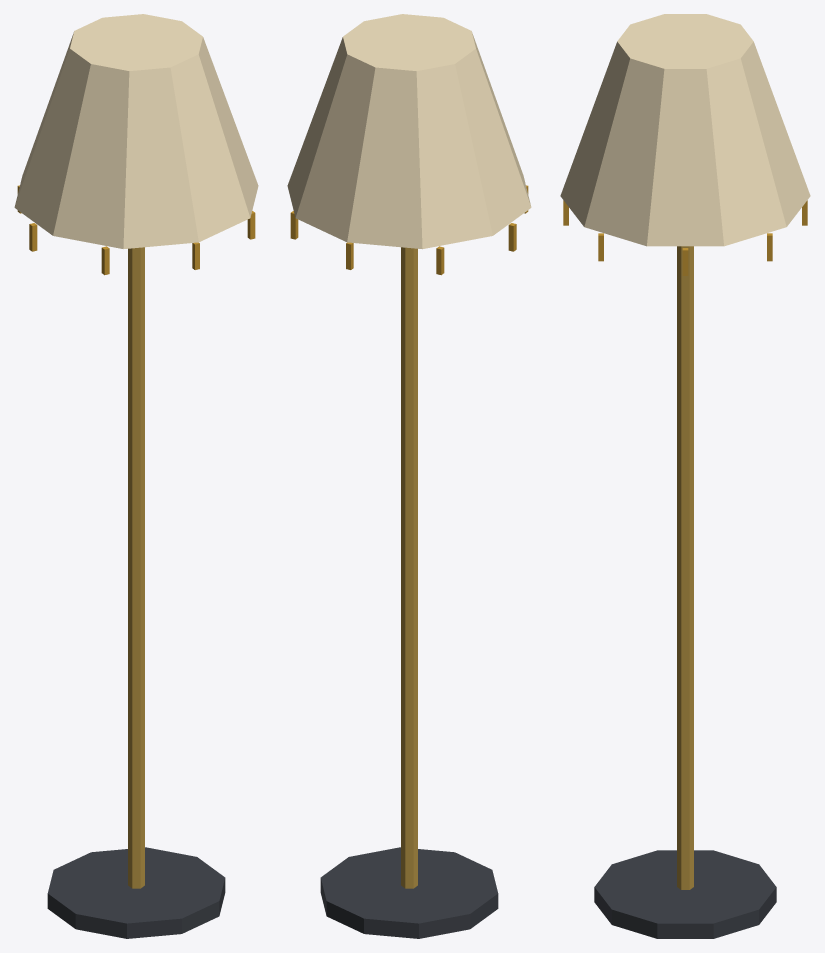
The model's file is floorLamp.fbx.
3 views of the same model, side by side, from view 1: azimuth 30°, elevation 25°; view 2: azimuth 150°, elevation 25°; view 3: azimuth 270°, elevation 25° (orthographic).
Parts seen in each view (by area): view 1: floorLamp; view 2: floorLamp; view 3: floorLamp.
Boxes of the visible parts, x1,y1,x2,y2 form: floorLamp: (14, 14, 258, 938); floorLamp: (287, 14, 531, 938); floorLamp: (560, 14, 810, 938).
Bounding box in the file's own units: 1.72 × 6.68 × 1.76.
